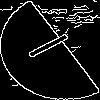I: (25, 25, 81, 61)
